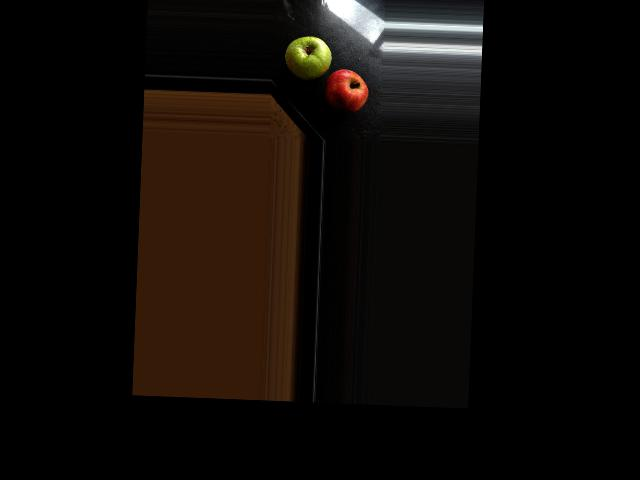apple: (325, 67, 371, 116)
